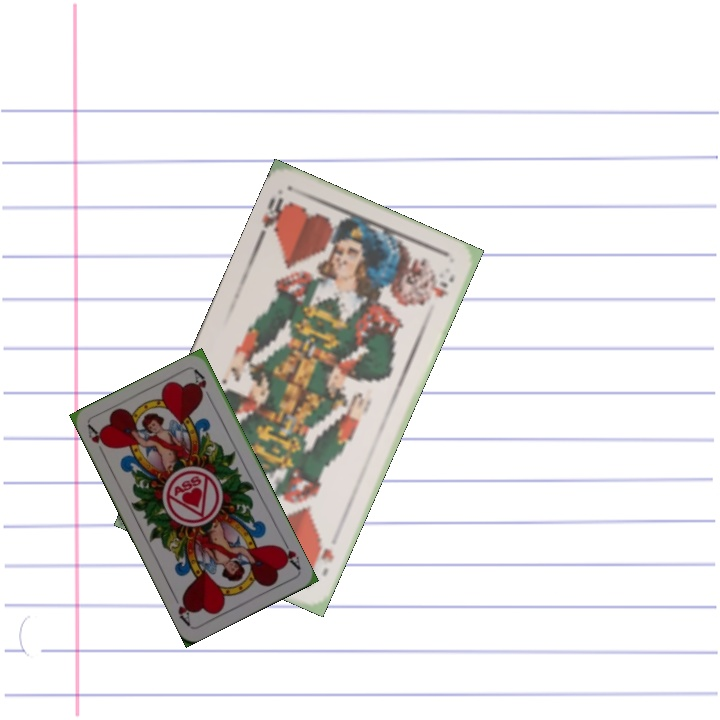HA: (274, 535, 303, 573), (83, 421, 111, 459)
HO: (257, 193, 293, 238), (303, 539, 337, 579)
